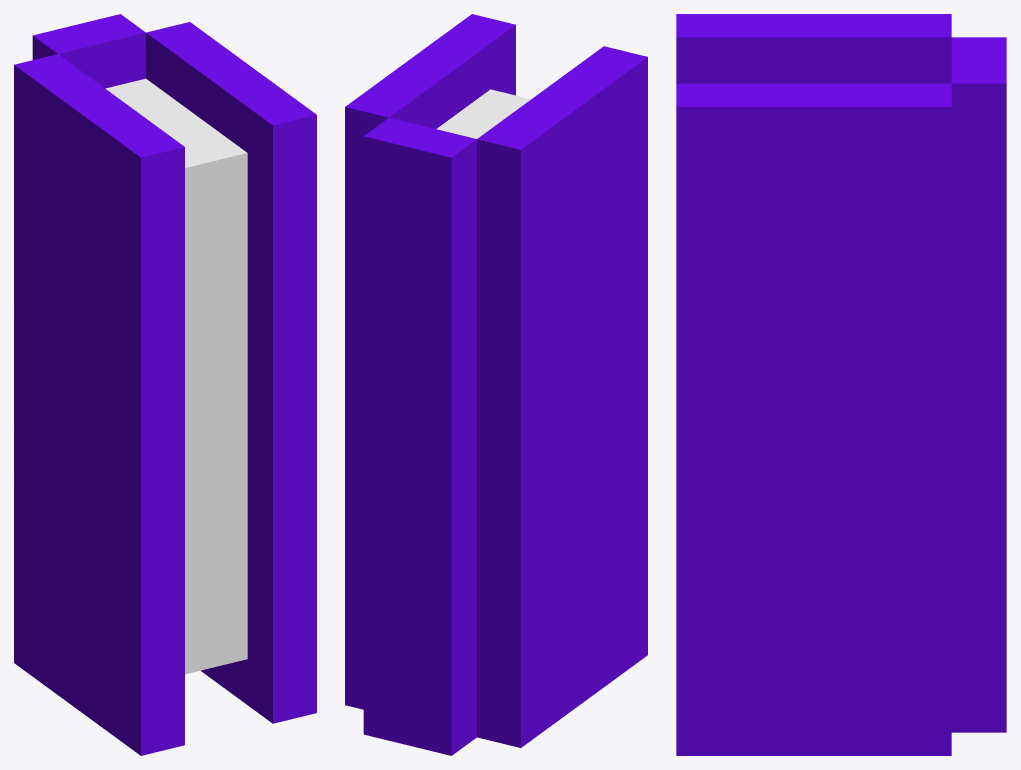
File: Books.vox-2.obj
3 views of the same model, side by side, from view 1: azimuth 30°, elevation 25°; view 2: azimuth 150°, elevation 25°; view 3: azimuth 270°, elevation 25° (orthographic). The views are drawn at different scales.
Bounding box in the file's own units: 0.4 × 1.3 × 0.6.
1 material, 1 textured.
